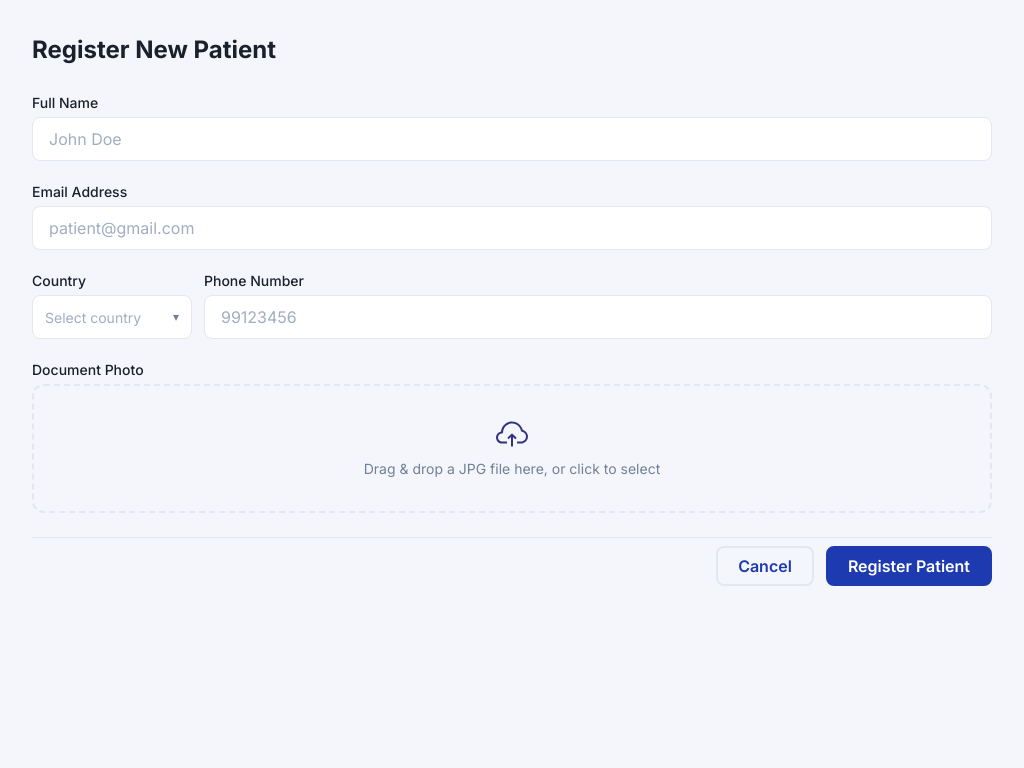
Test: PatientForm › shows gmail error for non-gmail email
Type "test@yahoo.com" into the field labelled "Email Address". click: (512, 228)
box: [32,206,992,250]
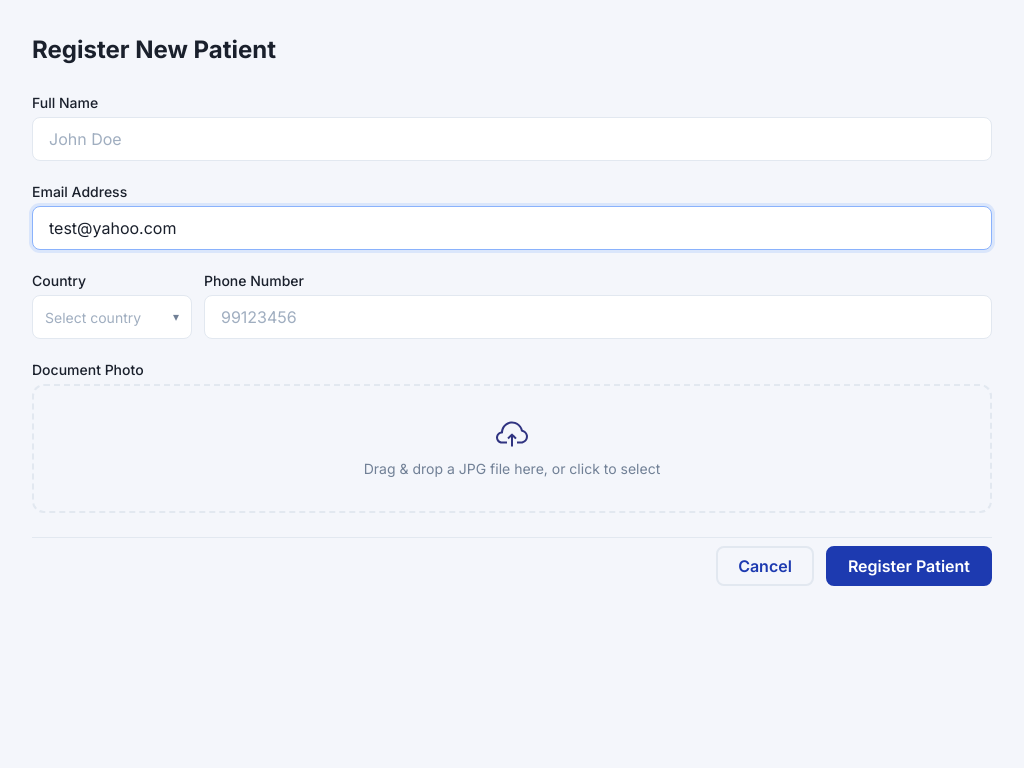
Click the button "Register Patient". click: (909, 566)
box: [826,546,992,586]
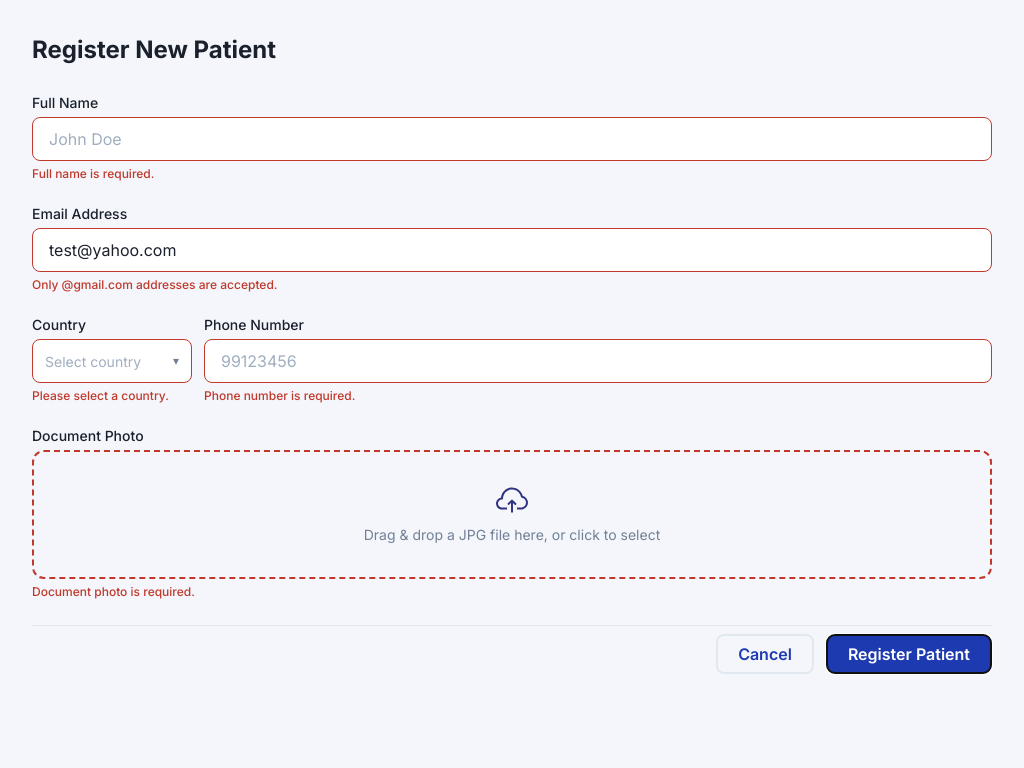
expect the text "Only @gmail.com addresses are accepted." is shown: met, box [32,277,278,292]
